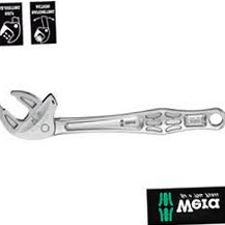wrench: (2, 79, 225, 155)
